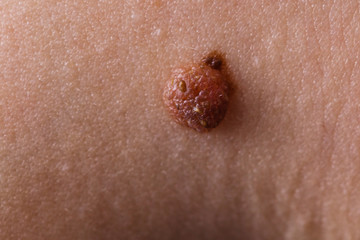melanoma: (138, 38, 260, 144)
